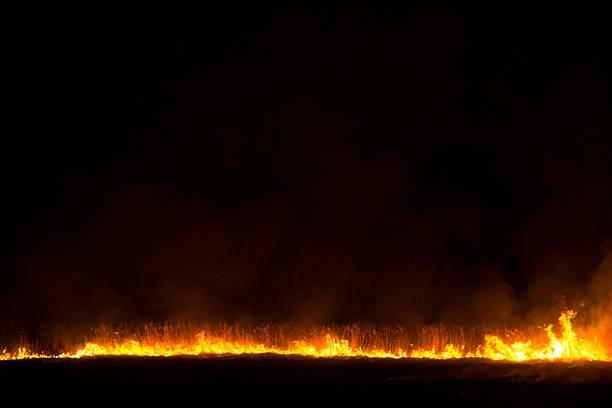Fire: (8, 318, 594, 362)
